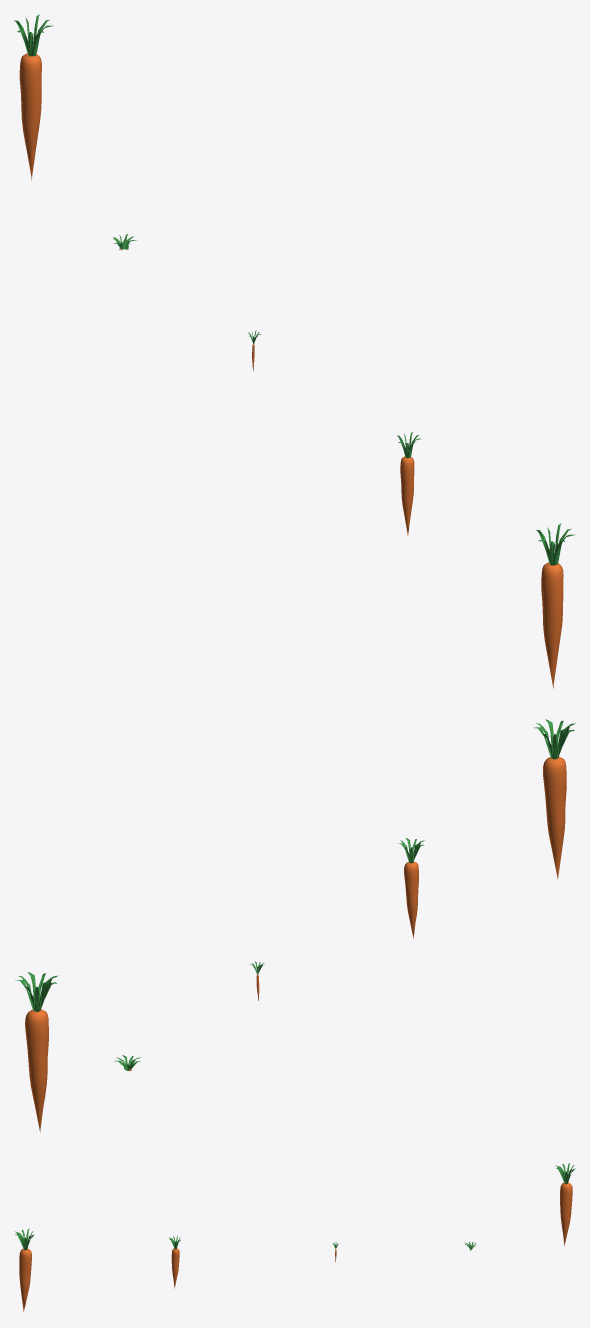
Rendered from carrots.fbx.
3 views of the same model, one above another, from view 1: azimuth 30°, elevation 25°; view 2: azimuth 150°, elevation 25°; view 3: azimuth 270°, elevation 25° (orthographic). The views are drawn at different scales.
Parts seen in each view (by area): view 1: Stage 4, Carrot, Stage 3; view 2: Stage 4, Carrot, Stage 3; view 3: Stage 4, Carrot, Stage 3.
Boxes of the visible parts, bbox=[...] form: Stage 4: bbox=[536, 523, 574, 688]; Carrot: bbox=[14, 14, 53, 180]; Stage 3: bbox=[397, 432, 421, 535]; Stage 4: bbox=[533, 719, 575, 879]; Carrot: bbox=[15, 972, 57, 1132]; Stage 3: bbox=[398, 838, 424, 938]; Stage 4: bbox=[14, 1228, 33, 1311]; Carrot: bbox=[555, 1163, 575, 1246]; Stage 3: bbox=[169, 1236, 180, 1288].
Bounding box in the file's own units: 6.62 × 48.92 × 167.
